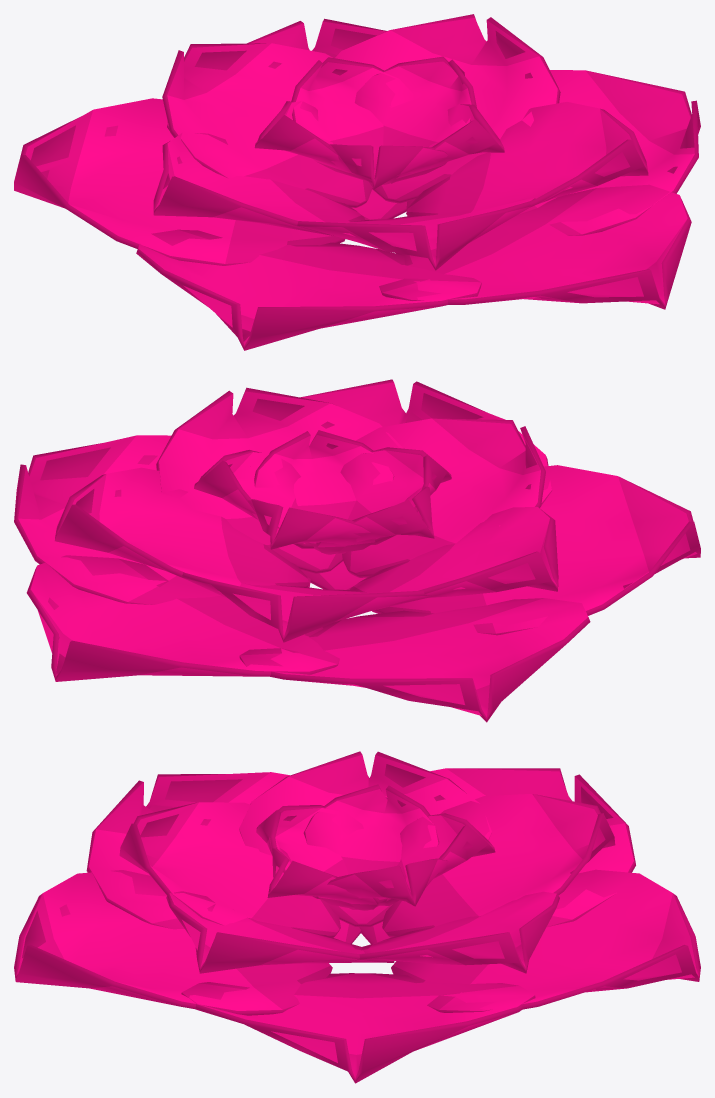
File: garden-rose-bloom-head-2-ff0088.glb
3 views of the same model, one above another, from view 1: azimuth 30°, elevation 25°; view 2: azimuth 150°, elevation 25°; view 3: azimuth 270°, elevation 25° (orthographic). The views are drawn at different scales.
Parts seen in each view (by area): view 1: rose-bloom-head-2-ff0088; view 2: rose-bloom-head-2-ff0088; view 3: rose-bloom-head-2-ff0088.
Boxes of the visible parts, box(x1,y1,x2,y2) form: rose-bloom-head-2-ff0088: box(14, 14, 700, 350); rose-bloom-head-2-ff0088: box(14, 379, 700, 722); rose-bloom-head-2-ff0088: box(14, 751, 700, 1083).
Size of the model in its own units: 0.1716 by 0.0402 by 0.1783.
